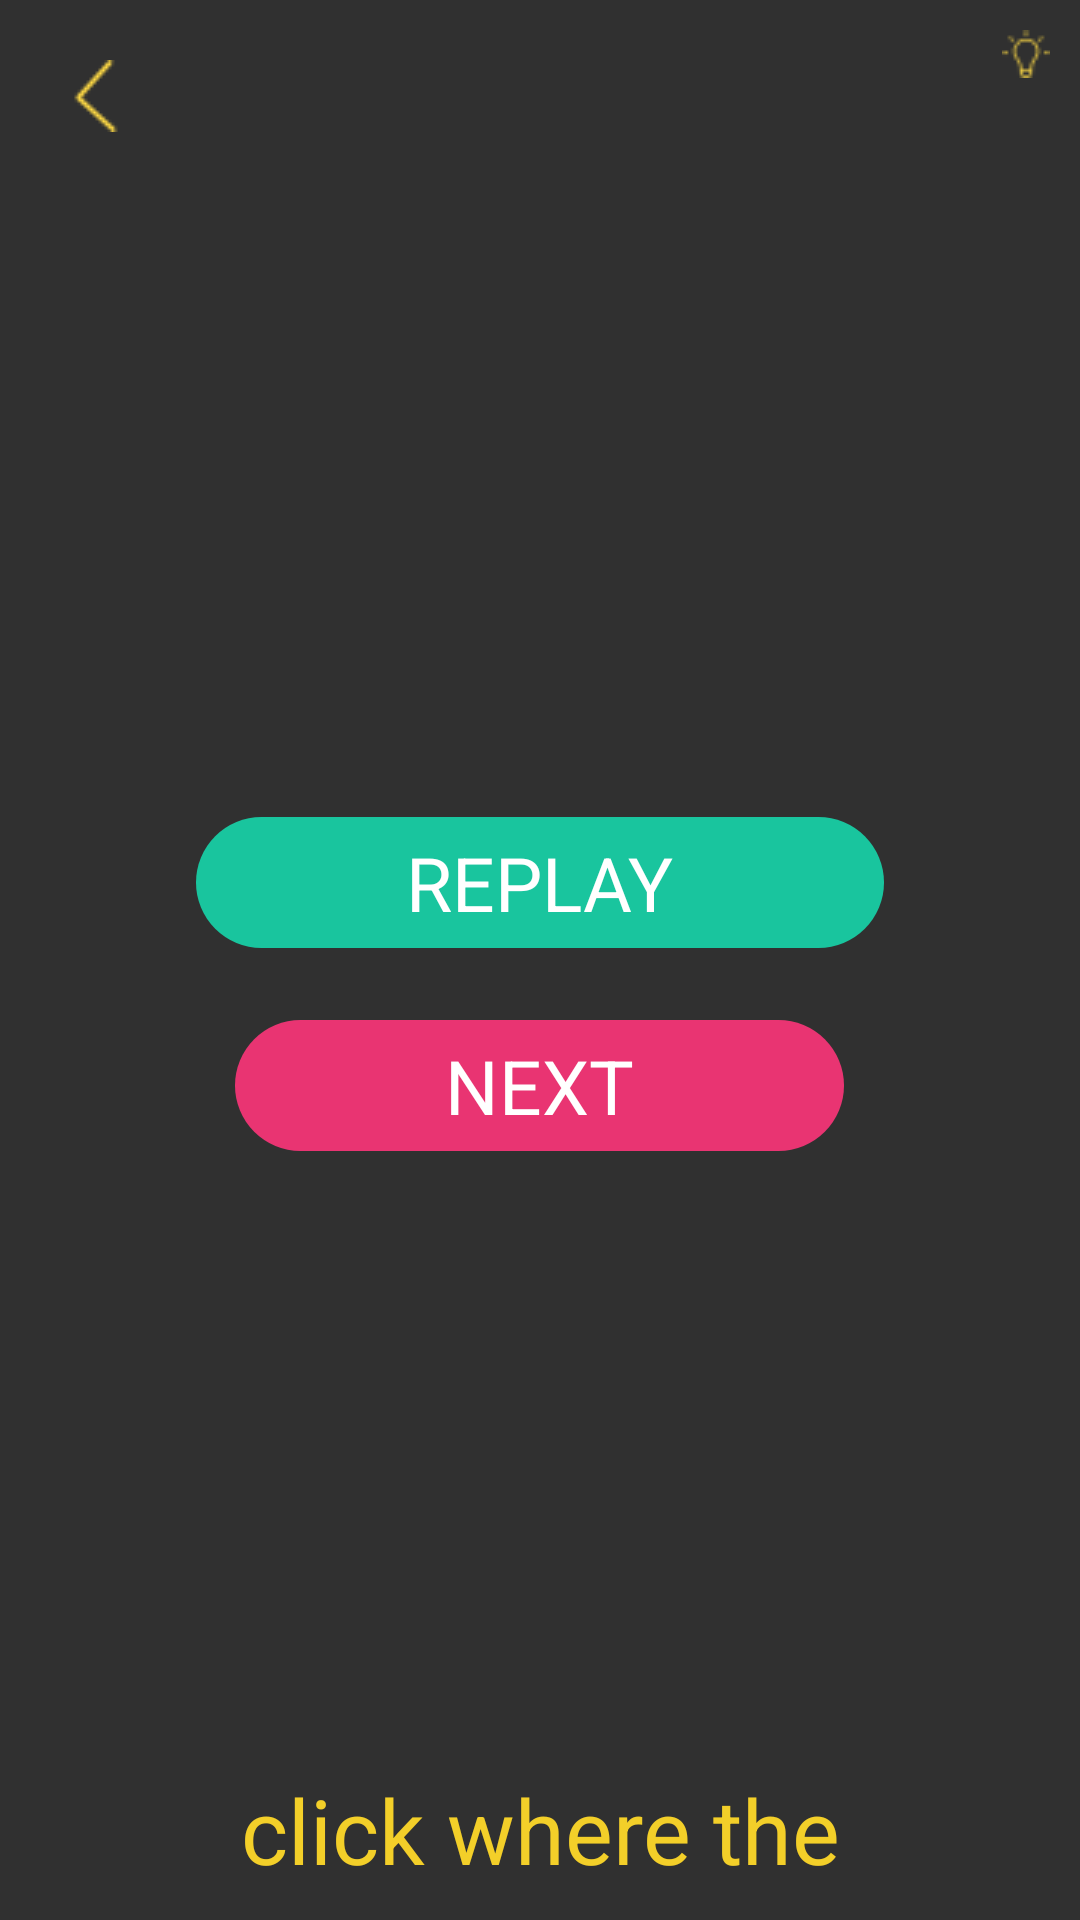

Where icons sit on this 1080 x 1920 app screen, as (x1,y1,x2,y2):
arrow: (74,60,117,132)
lightbulb: (1002,30,1050,78)
